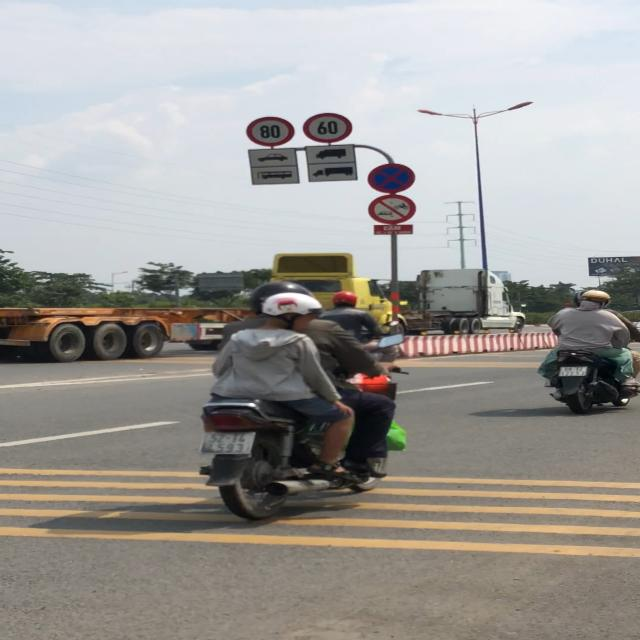Bien bao cam dung xe va do xe: (367, 164, 418, 192)
Bien bao toc do toi da cho phep: (246, 115, 298, 148), (303, 110, 355, 142)
